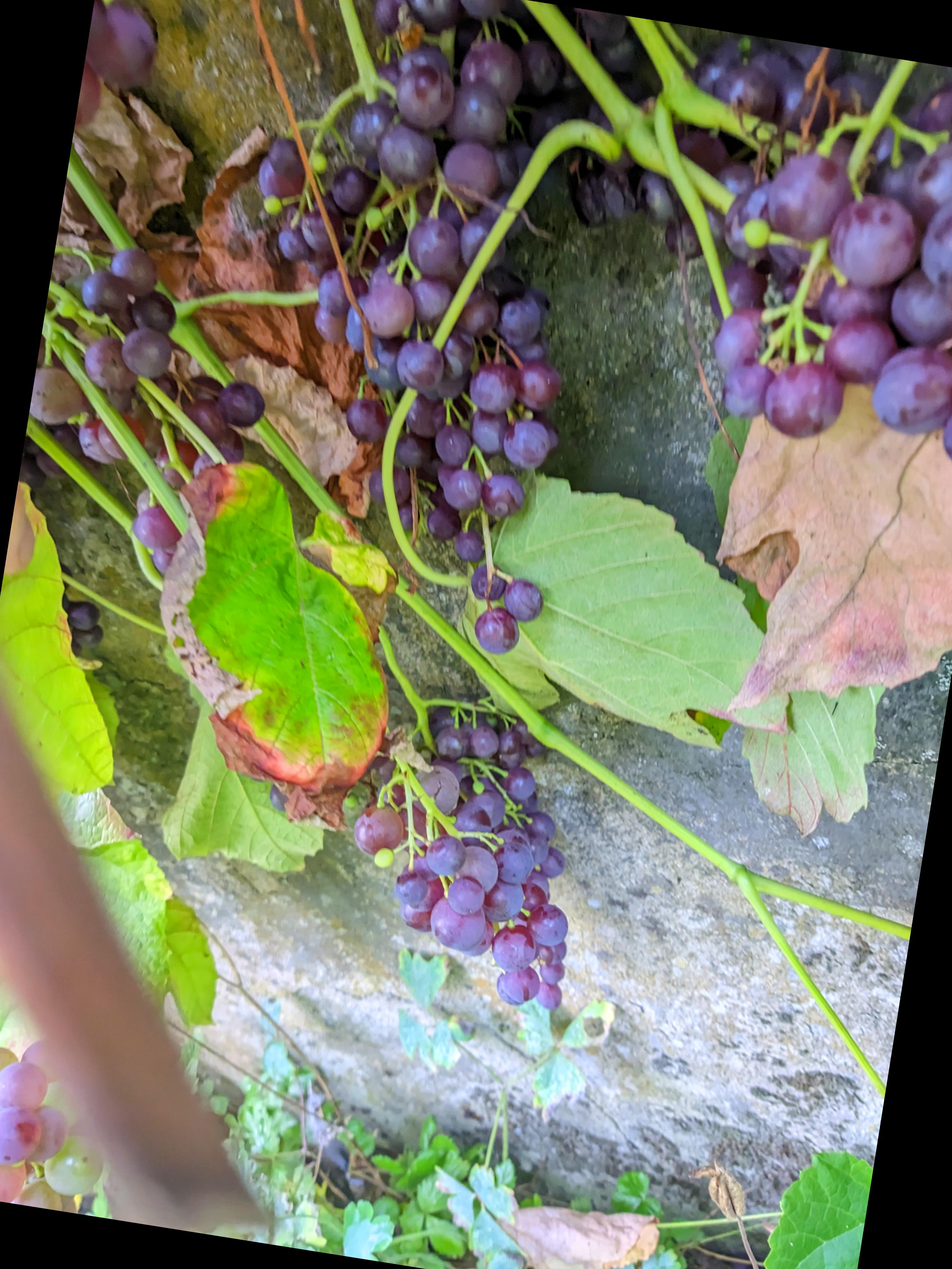Grape Unripe: (319, 0, 736, 597), (705, 0, 952, 410), (107, 171, 387, 525), (429, 633, 705, 949), (7, 967, 220, 1153)
